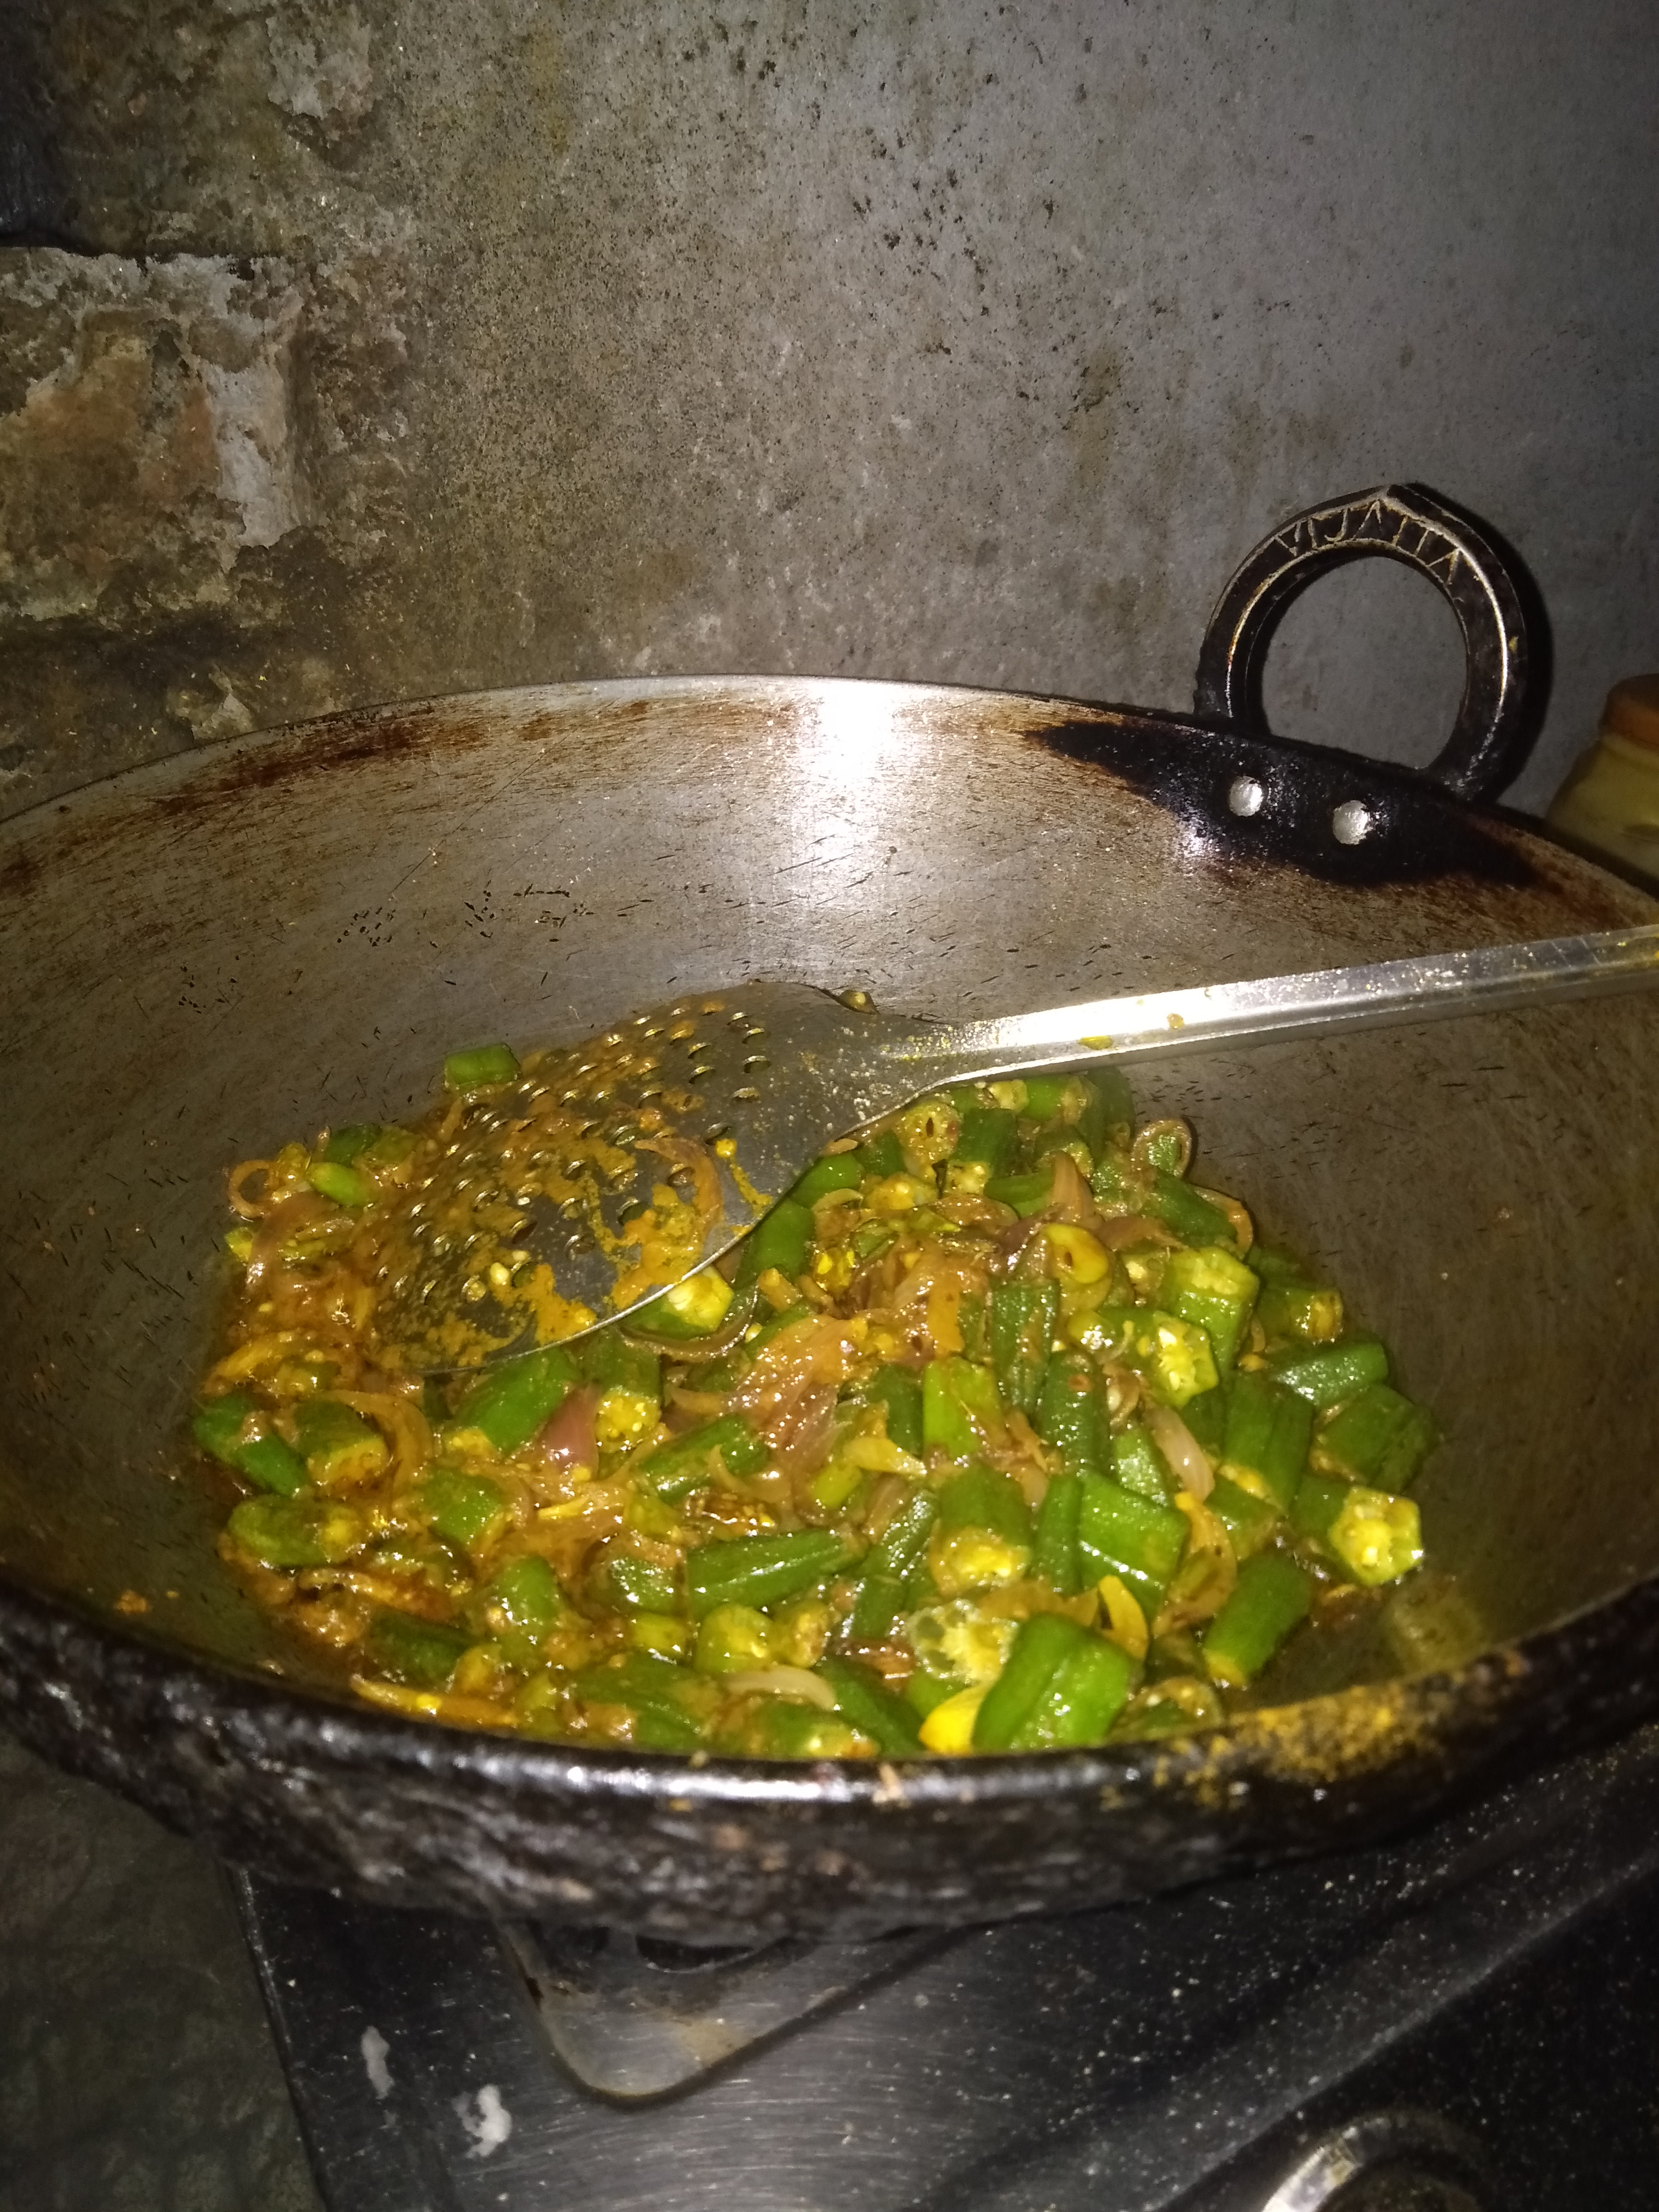food: (181, 972, 1452, 1777)
